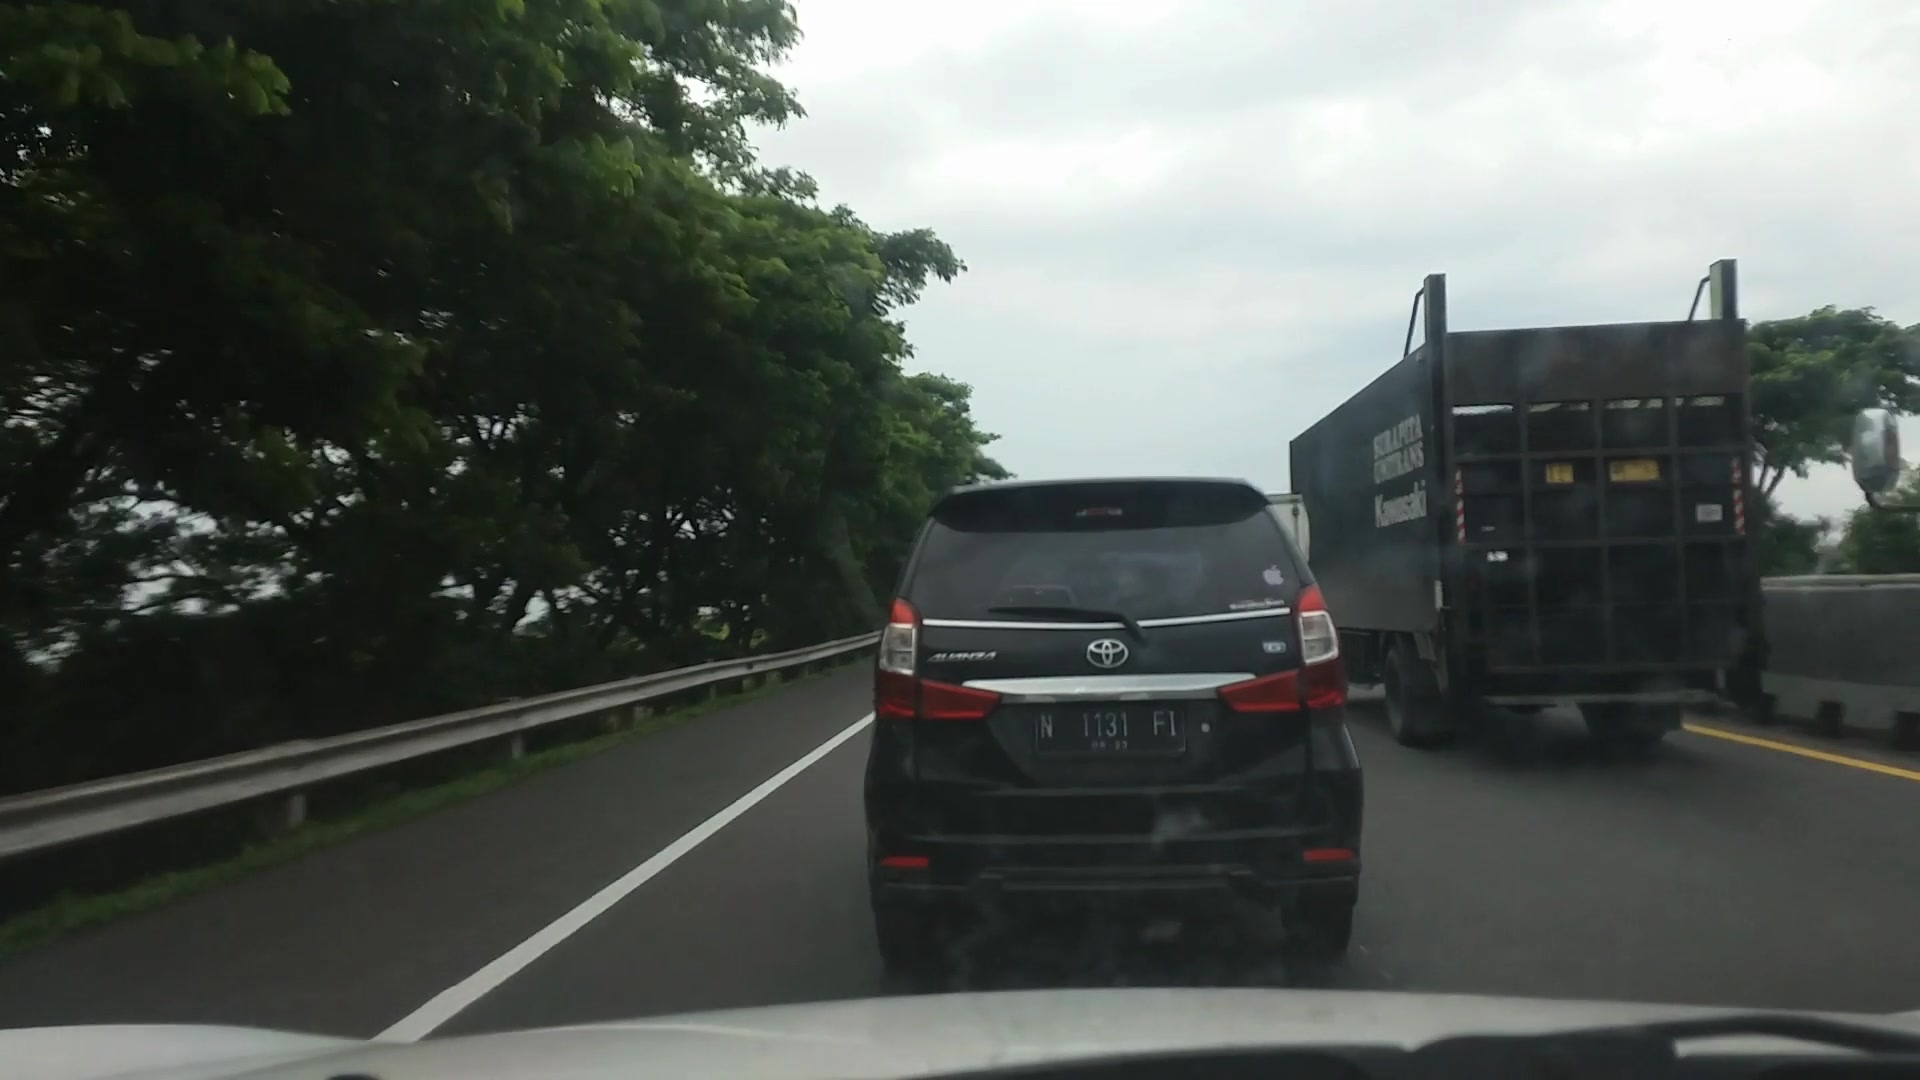plate_positive: (1036, 703, 1182, 752)
